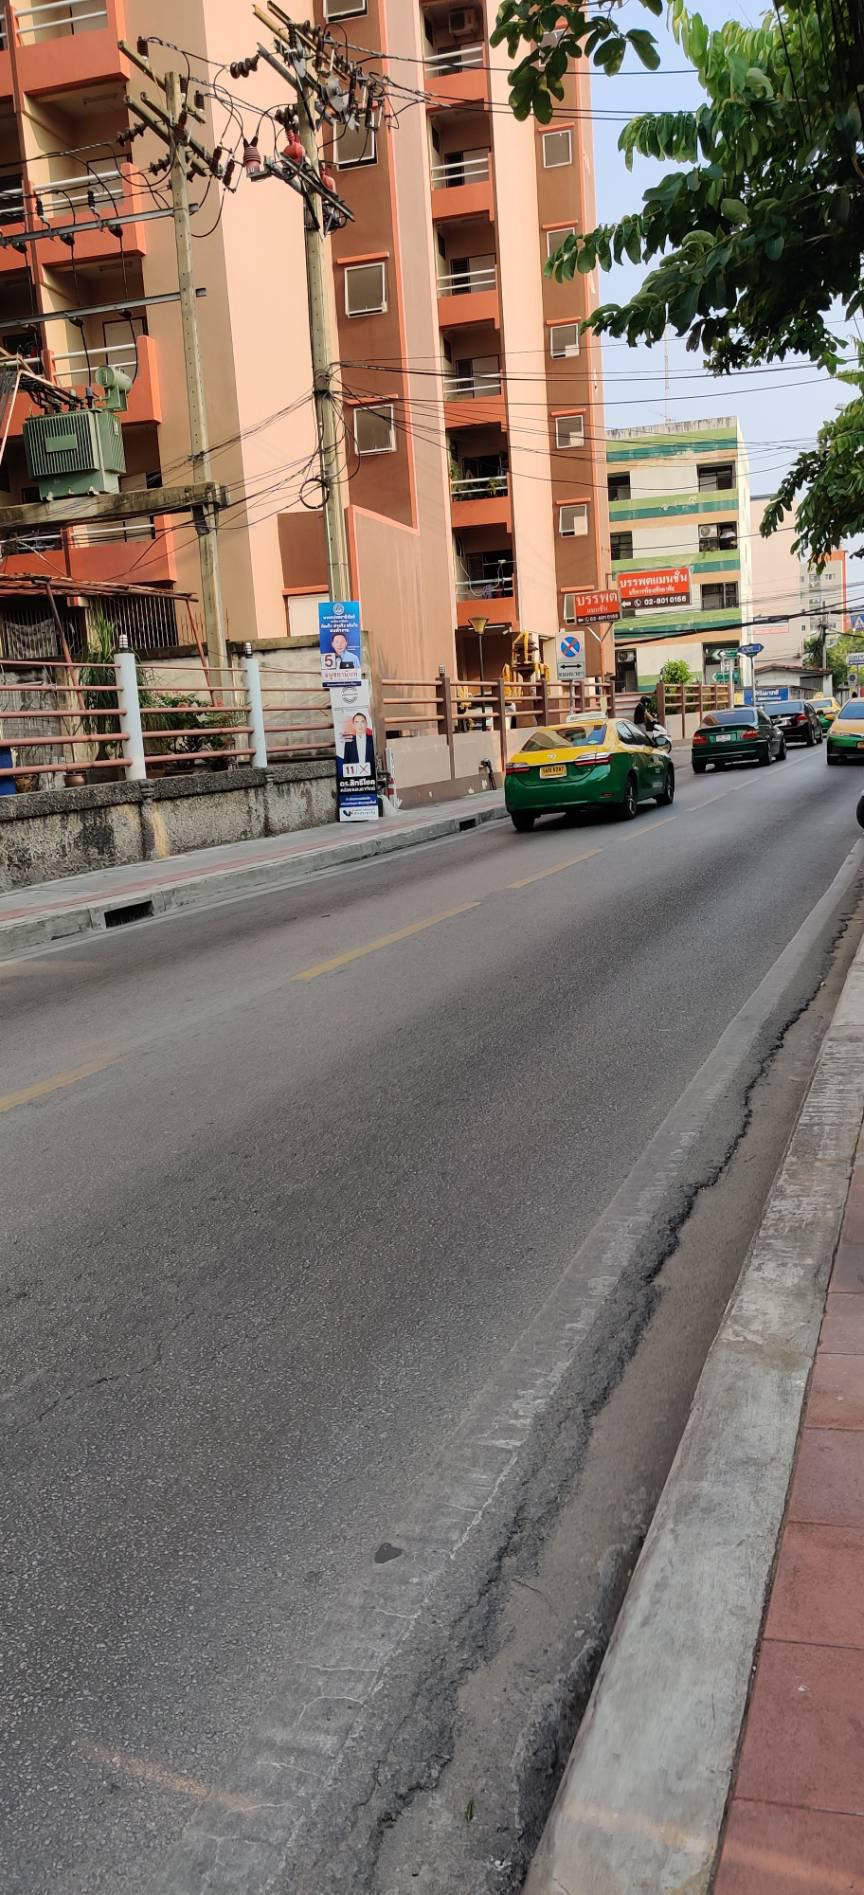Banner: (311, 605, 381, 828)
